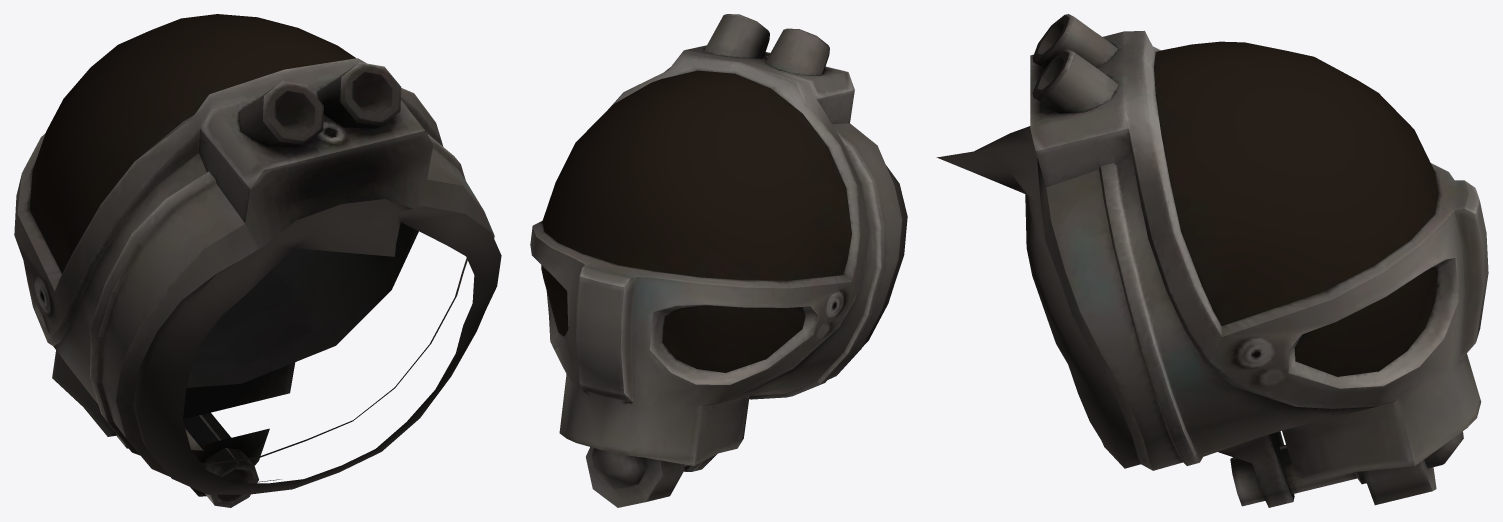
3 views of the same model, side by side, from view 1: azimuth 30°, elevation 25°; view 2: azimuth 150°, elevation 25°; view 3: azimuth 270°, elevation 25° (orthographic). The views are drawn at different scales.
Visible parts, largest first — view 1: body0_model0_lod0_mesh0, body0_model0_lod0_mesh1; view 2: body0_model0_lod0_mesh0, body0_model0_lod0_mesh1; view 3: body0_model0_lod0_mesh0, body0_model0_lod0_mesh1.
Boxes of the visible parts, x1,y1,x2,y2 form: body0_model0_lod0_mesh0: [14, 58, 501, 507]; body0_model0_lod0_mesh1: [30, 14, 355, 273]; body0_model0_lod0_mesh0: [530, 14, 907, 507]; body0_model0_lod0_mesh1: [541, 70, 851, 372]; body0_model0_lod0_mesh0: [936, 14, 1488, 507]; body0_model0_lod0_mesh1: [1154, 41, 1438, 376].
Bounding box in the file's own units: 13.7 × 17.44 × 18.56.
Materials: 2 (2 with a texture image).
